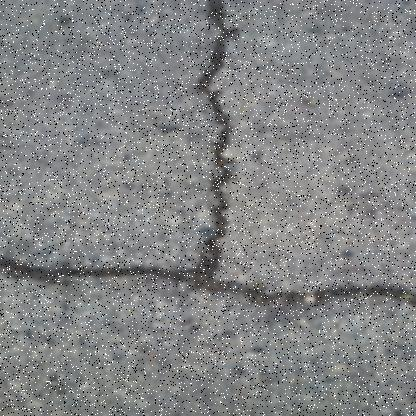Cracks: (0, 249, 416, 315), (173, 0, 261, 300)
